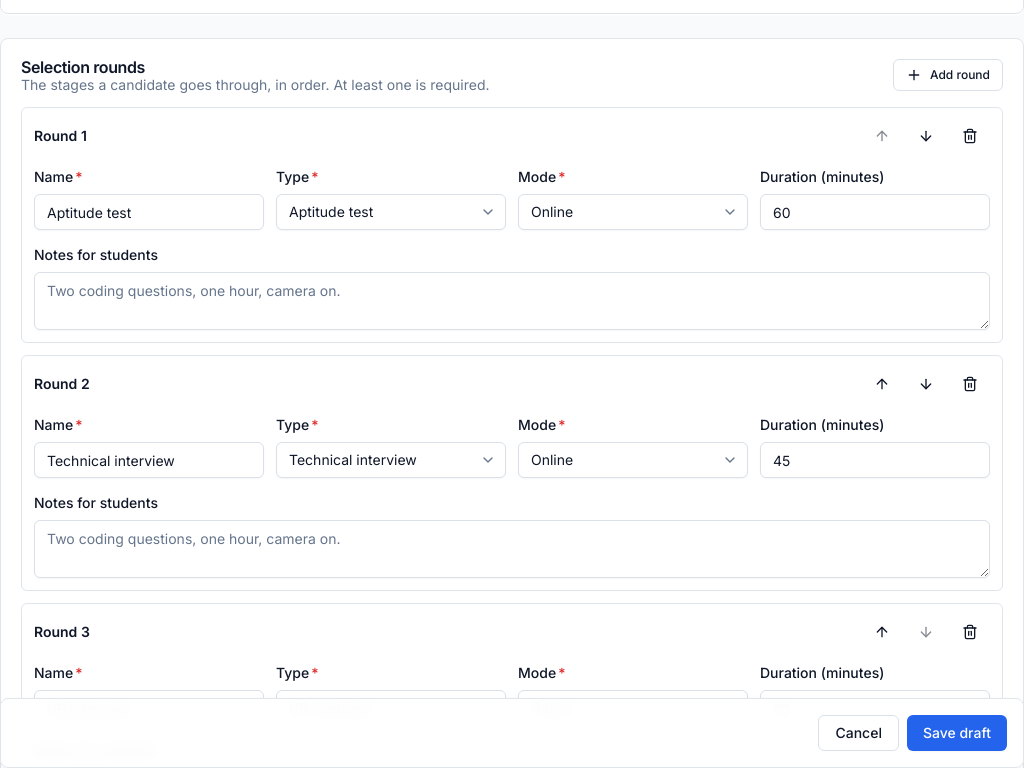
Test: Job posting form › removes a round and renumbers the rest without a gap
(page scrolled)
Click the button named "remove round 2" at (970, 384), box [950,368,990,400]
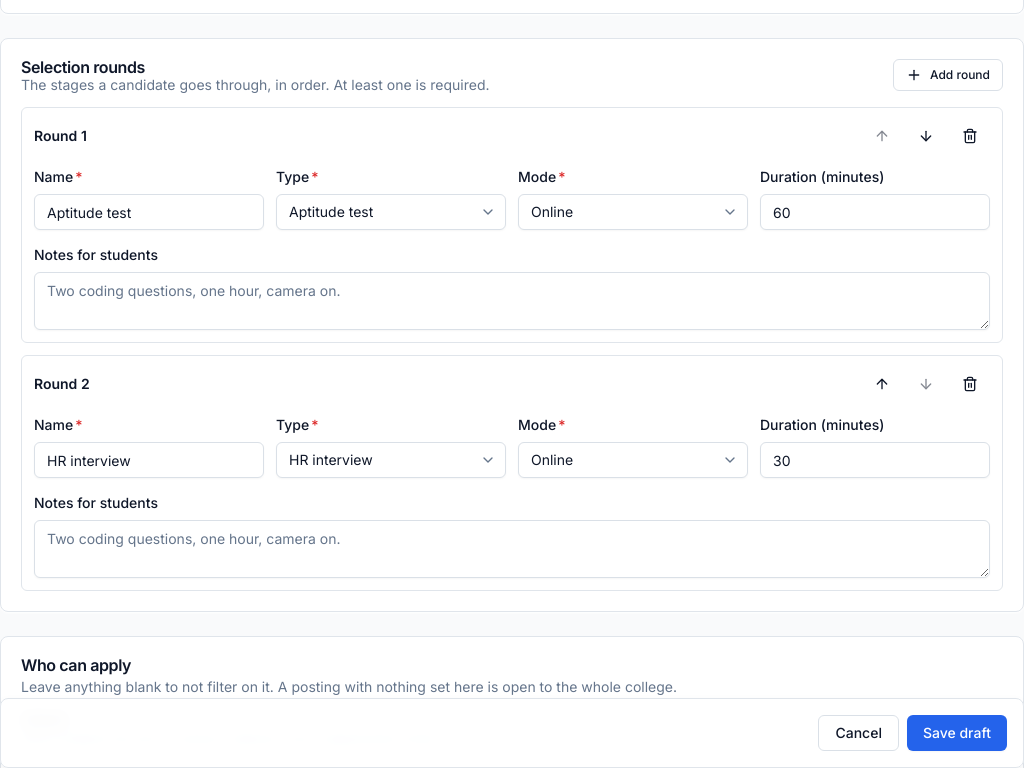
Expected: the text "Round 1" is shown, [34,126,87,146]
Expected: the text "Round 3" is gone
